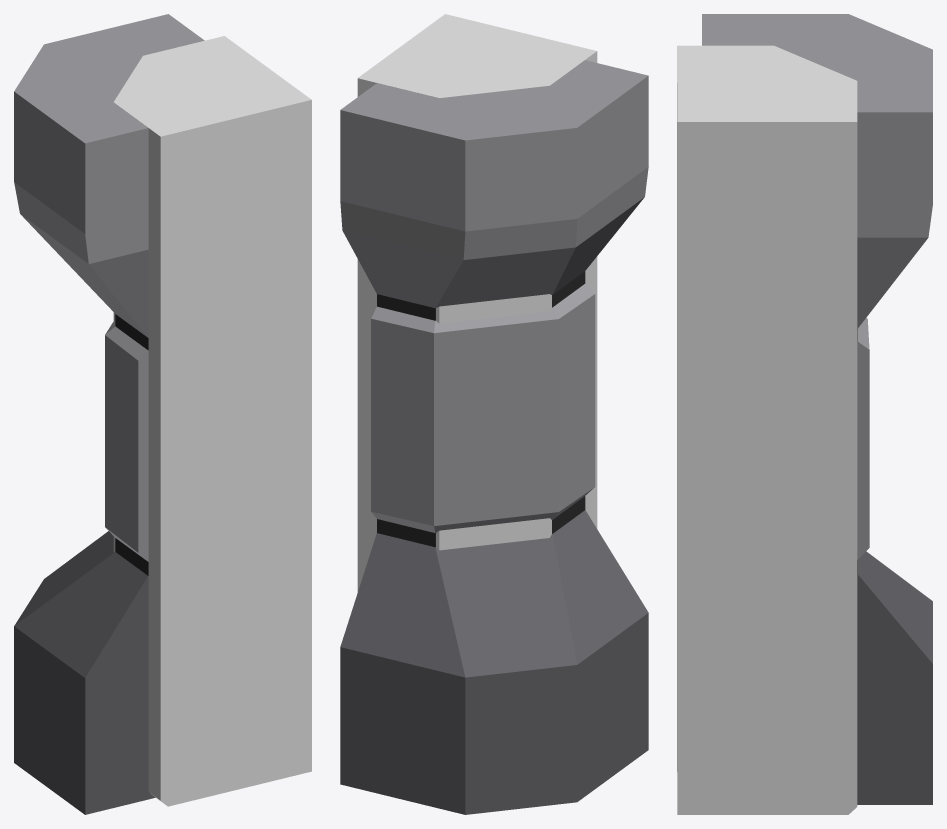
The model's file is SM_Bld_Wall_Corner_Pillar_Wide_03.fbx.
3 views of the same model, side by side, from view 1: azimuth 30°, elevation 25°; view 2: azimuth 150°, elevation 25°; view 3: azimuth 270°, elevation 25° (orthographic). The views are drawn at different scales.
Visible parts, largest first — view 1: SM_Bld_Wall_Corner_Pillar_Wide_03_ConvexHulls, SM_Bld_Wall_Corner_Pillar_Wide_03_LOD0; view 2: SM_Bld_Wall_Corner_Pillar_Wide_03_LOD0, SM_Bld_Wall_Corner_Pillar_Wide_03_ConvexHulls; view 3: SM_Bld_Wall_Corner_Pillar_Wide_03_ConvexHulls, SM_Bld_Wall_Corner_Pillar_Wide_03_LOD0.
Boxes of the visible parts, left/top/right/bottom form: SM_Bld_Wall_Corner_Pillar_Wide_03_ConvexHulls: left=113, top=36, right=311, bottom=806; SM_Bld_Wall_Corner_Pillar_Wide_03_LOD0: left=14, top=14, right=204, bottom=814; SM_Bld_Wall_Corner_Pillar_Wide_03_LOD0: left=340, top=60, right=648, bottom=814; SM_Bld_Wall_Corner_Pillar_Wide_03_ConvexHulls: left=357, top=14, right=597, bottom=591; SM_Bld_Wall_Corner_Pillar_Wide_03_ConvexHulls: left=677, top=45, right=857, bottom=814; SM_Bld_Wall_Corner_Pillar_Wide_03_LOD0: left=702, top=14, right=932, bottom=804.
Size of the model in its own units: 170 by 170 by 509.
1 material, 1 textured.
